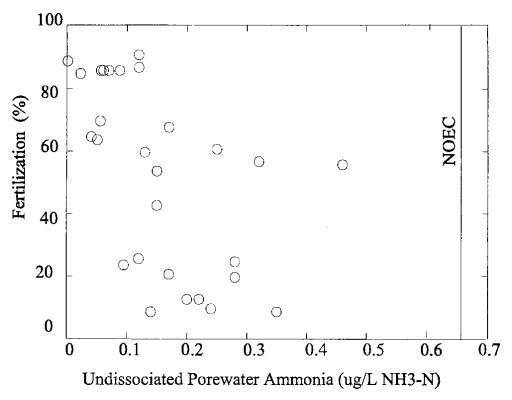axis: (64, 329, 492, 342), (64, 22, 74, 343)
point: (268, 303, 287, 321), (142, 304, 159, 322), (225, 271, 245, 286), (114, 256, 131, 273), (227, 254, 245, 270), (208, 143, 228, 157), (335, 157, 351, 174), (161, 266, 178, 282), (203, 300, 219, 317), (191, 290, 206, 307), (148, 199, 166, 213), (137, 144, 153, 159), (251, 153, 267, 168), (131, 251, 147, 266), (178, 291, 194, 306), (94, 114, 111, 128), (132, 47, 147, 62), (150, 164, 165, 179), (73, 66, 89, 80), (114, 63, 128, 78), (61, 54, 76, 68), (162, 121, 177, 135), (131, 62, 148, 74), (95, 63, 109, 77), (84, 130, 98, 144), (105, 64, 117, 77)
